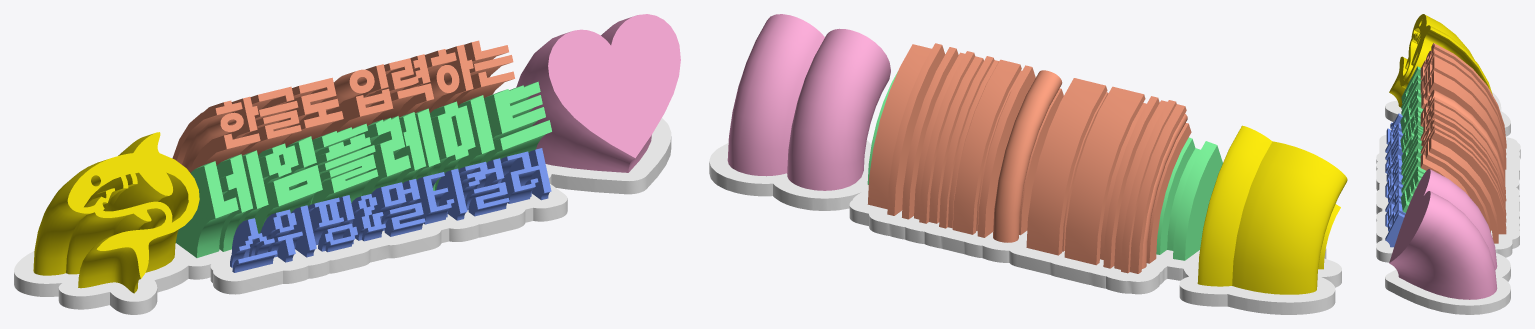
Rendered from gallery-6.glb.
The picture shows the model from 3 angles, left to right: view 1: azimuth 30°, elevation 25°; view 2: azimuth 150°, elevation 25°; view 3: azimuth 270°, elevation 25°; orthographic projection. The views are drawn at different scales.
Size of the model in its own units: 154 by 35.93 by 41.92.
